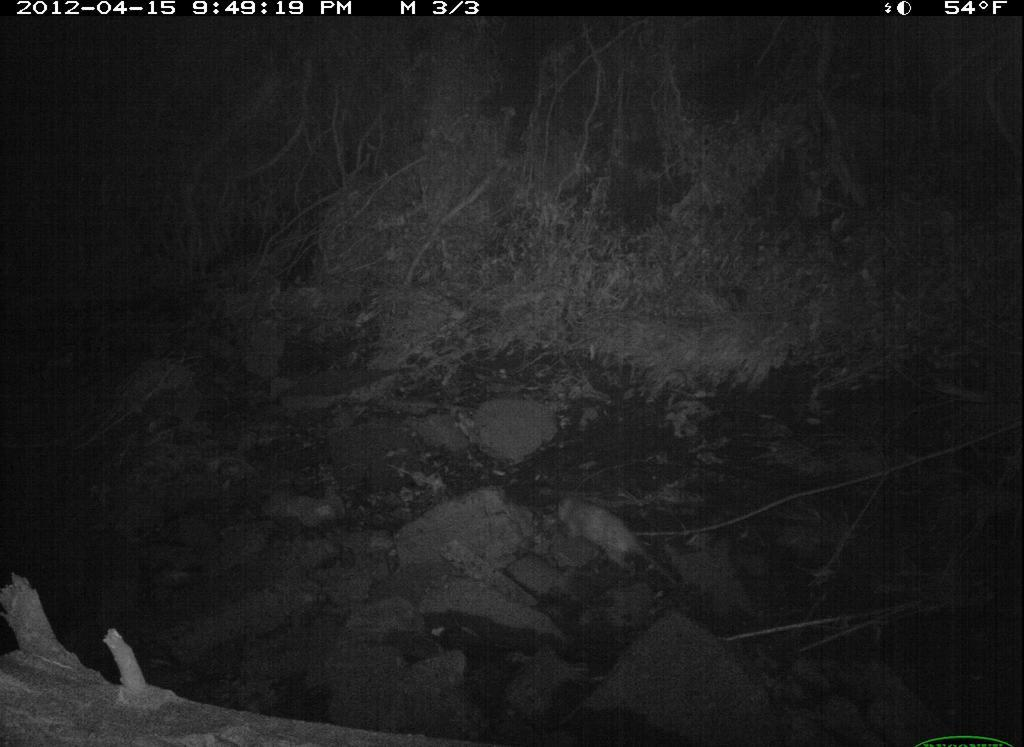opossum: (542, 484, 690, 605)
